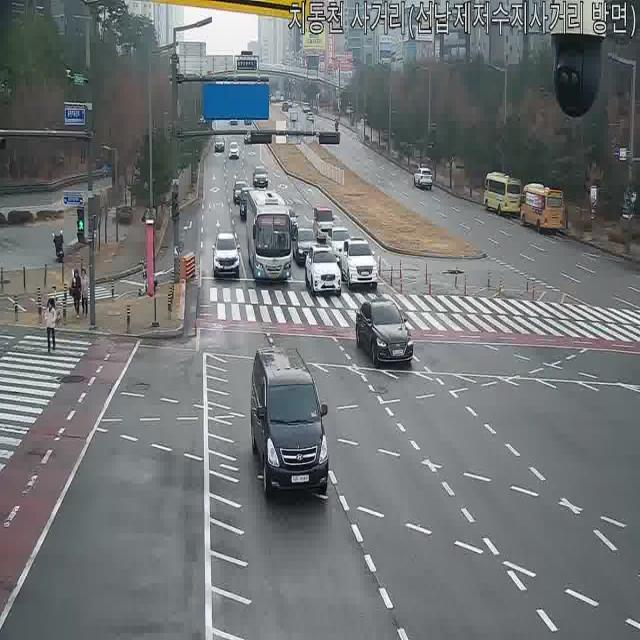Bus: (247, 188, 296, 284), (519, 182, 565, 234), (482, 172, 524, 216)
Car: (252, 353, 334, 510), (358, 301, 417, 371), (338, 238, 379, 289), (306, 246, 342, 297), (212, 232, 241, 282), (292, 227, 320, 267), (325, 225, 353, 261), (311, 206, 337, 243), (276, 206, 300, 238), (237, 188, 258, 220), (411, 166, 431, 188), (252, 166, 270, 190), (232, 180, 250, 204), (228, 141, 239, 159), (245, 130, 259, 144), (213, 136, 224, 153), (228, 112, 239, 126), (282, 100, 292, 112), (289, 110, 298, 123), (304, 111, 314, 122), (301, 102, 310, 113)
Motorcycle: (238, 191, 250, 221)
